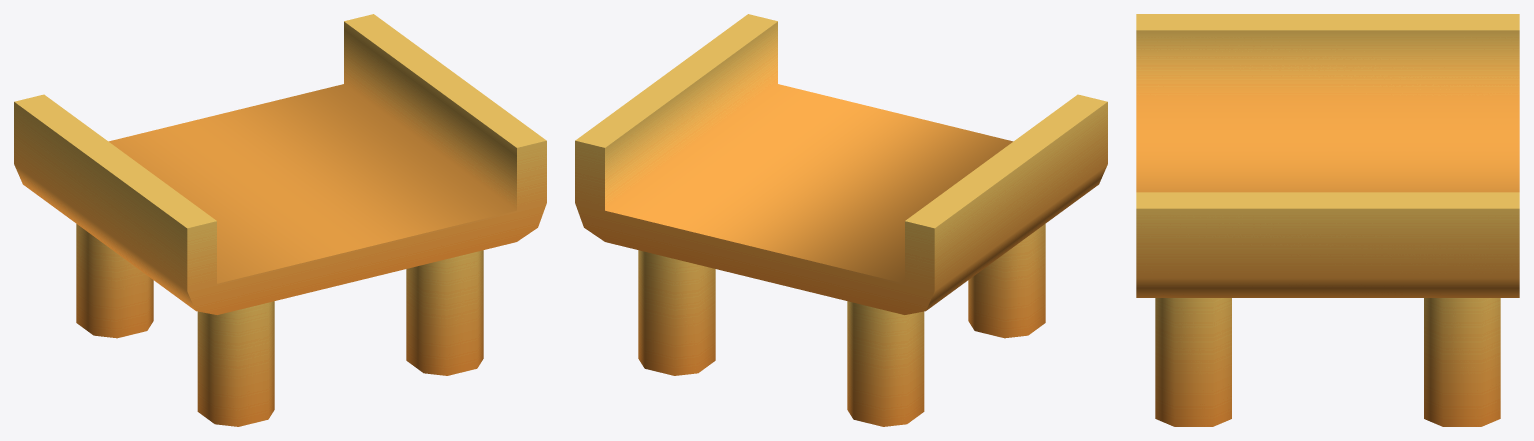
Rendered from support-color-four-top-col.glb.
The picture shows the model from 3 angles, left to right: view 1: azimuth 30°, elevation 25°; view 2: azimuth 150°, elevation 25°; view 3: azimuth 270°, elevation 25°; orthographic projection. The views are drawn at different scales.
Parts seen in each view (by area): view 1: support-color-four-top-col; view 2: support-color-four-top-col; view 3: support-color-four-top-col.
Boxes of the visible parts, x1,y1,x2,y2 form: support-color-four-top-col: (14, 14, 546, 426); support-color-four-top-col: (575, 14, 1107, 426); support-color-four-top-col: (1136, 14, 1519, 426).
Size of the model in its own units: 1.2 by 0.7 by 1.
1 material, 1 textured.
